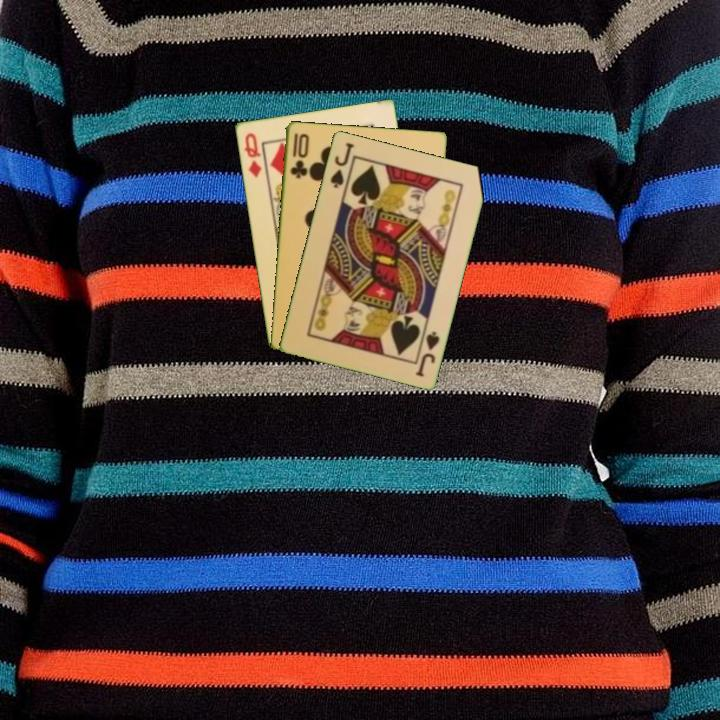10c: (287, 129, 311, 181)
Js: (326, 139, 357, 191), (412, 327, 442, 379)
Qd: (240, 129, 264, 180)
